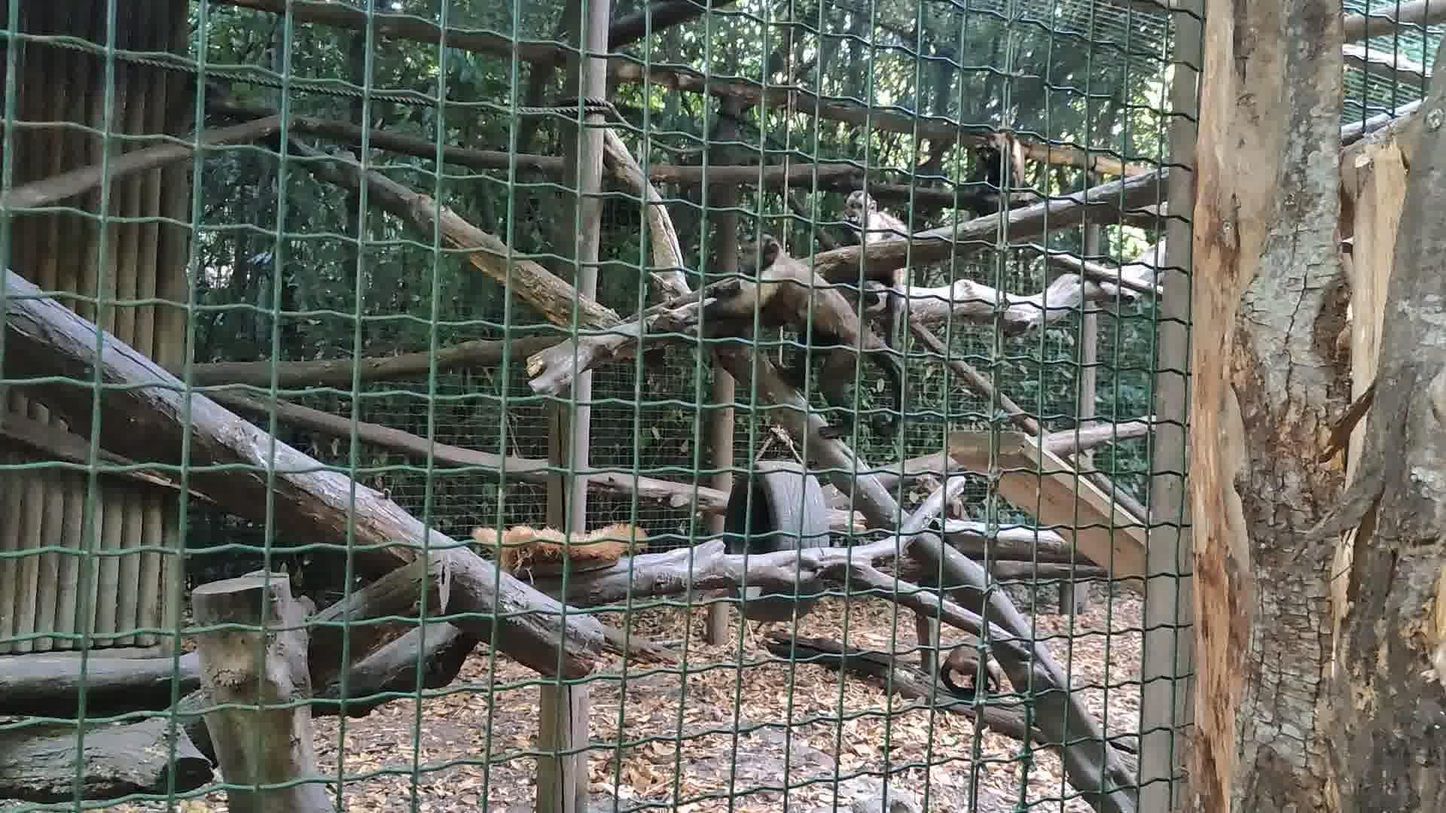boar: (704, 234, 910, 439), (843, 190, 915, 352), (974, 132, 1024, 192)
